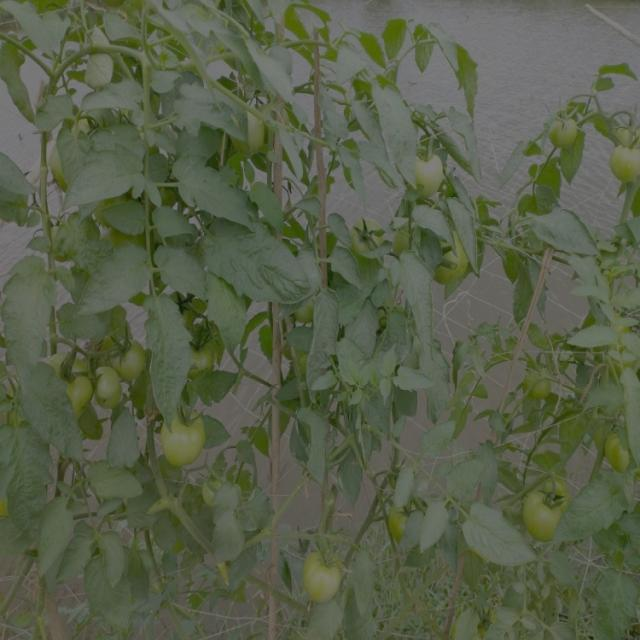tomato: (524, 478, 575, 542), (293, 546, 347, 605), (408, 143, 449, 200), (228, 107, 271, 161), (180, 319, 221, 374), (161, 407, 203, 460), (51, 349, 88, 402), (45, 138, 83, 188), (437, 239, 476, 287), (43, 213, 78, 263), (603, 426, 636, 477), (106, 337, 147, 378), (546, 112, 583, 155), (519, 359, 555, 402), (387, 500, 416, 542), (94, 376, 128, 409), (612, 147, 640, 184), (609, 111, 640, 144), (296, 297, 320, 326)
